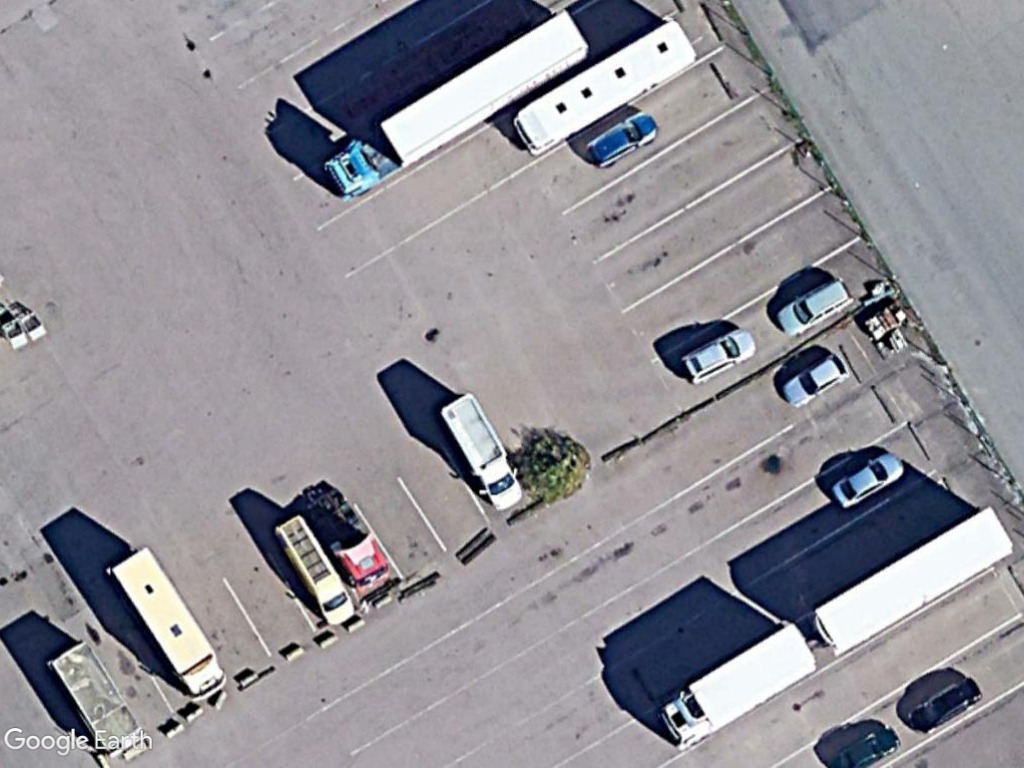bus: (507, 20, 707, 159)
car: (773, 274, 857, 342), (828, 449, 909, 512), (905, 676, 988, 737), (581, 108, 662, 169), (679, 326, 759, 382), (778, 350, 850, 411)
longvehicle: (314, 11, 591, 208)
truck: (655, 620, 817, 754), (106, 542, 232, 707), (437, 390, 527, 517)
van: (266, 508, 360, 631)
